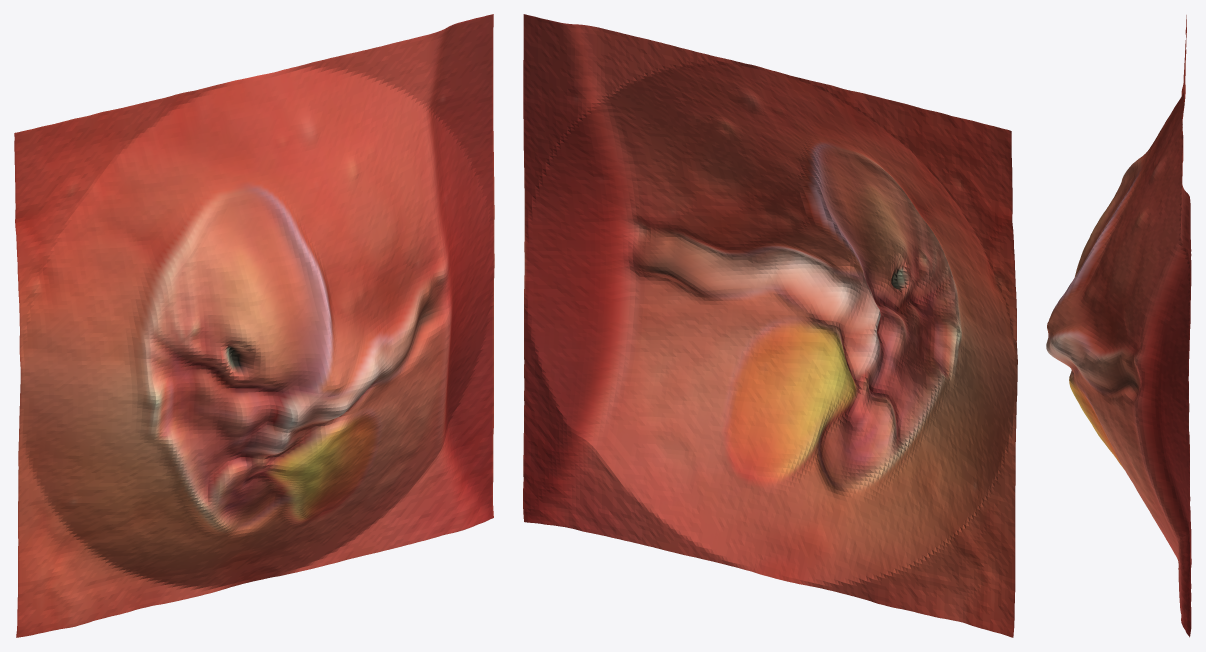
File: week8.glb
The picture shows the model from 3 angles, left to right: view 1: azimuth 30°, elevation 25°; view 2: azimuth 150°, elevation 25°; view 3: azimuth 270°, elevation 25°; orthographic projection. The views are drawn at different scales.
Visible parts, largest first — view 1: world; view 2: world; view 3: world.
Part boxes in pixels (x1,y1,x2,y2): world: (14, 14, 494, 637); world: (523, 14, 1017, 637); world: (1046, 15, 1191, 637).
Bounding box in the file's own units: 2 × 2 × 0.6193.
1 material, 1 textured.
